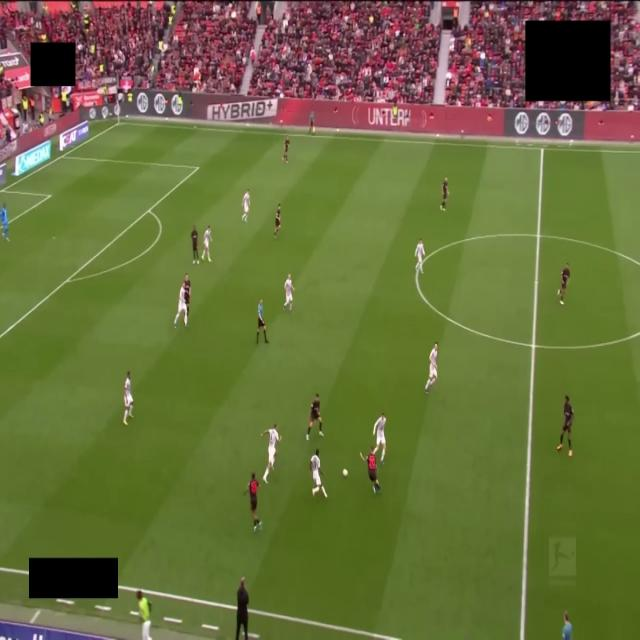ball: (343, 469, 347, 477)
player: (262, 424, 280, 483), (360, 447, 381, 493), (557, 396, 573, 456), (245, 473, 261, 532), (310, 449, 327, 497), (307, 394, 323, 439), (373, 413, 386, 464), (425, 343, 437, 393), (174, 282, 187, 327), (123, 372, 133, 425), (558, 263, 570, 304), (283, 274, 294, 311), (415, 239, 425, 273), (202, 226, 211, 262), (183, 274, 190, 317), (0, 204, 8, 240), (440, 178, 448, 211), (191, 226, 198, 263), (242, 190, 249, 222), (274, 204, 280, 237), (283, 136, 289, 163)
referee: (257, 299, 268, 343)
